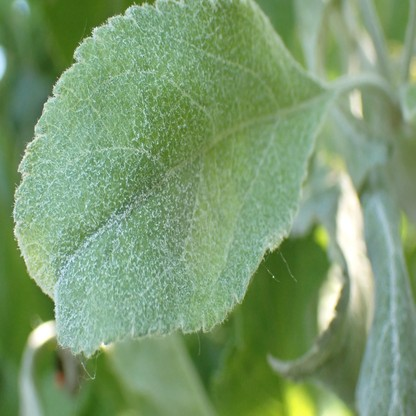powdery_mildew: (13, 2, 328, 356), (356, 190, 416, 416)
